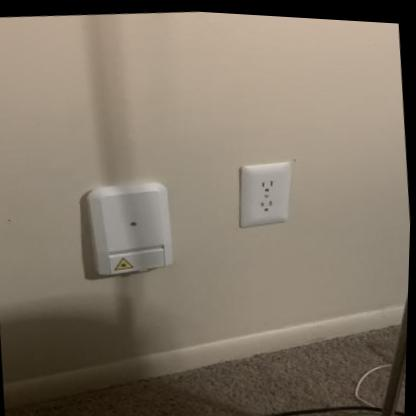OUTLET: (232, 158, 298, 232)
